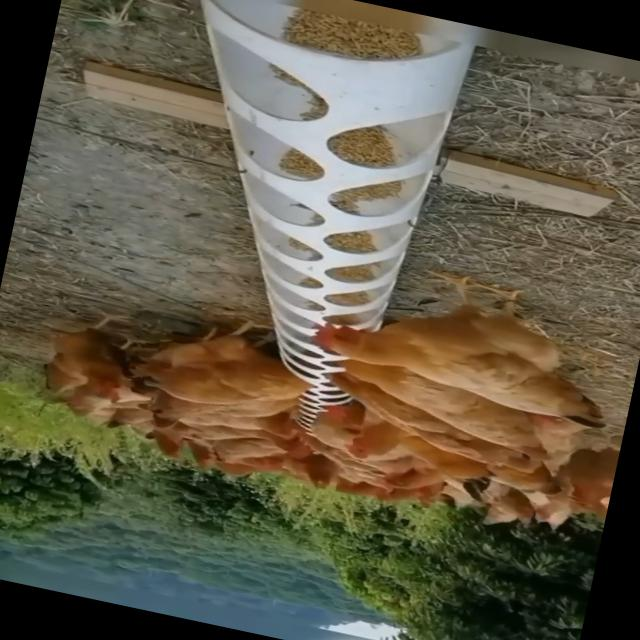feeding: (301, 252, 607, 428)
